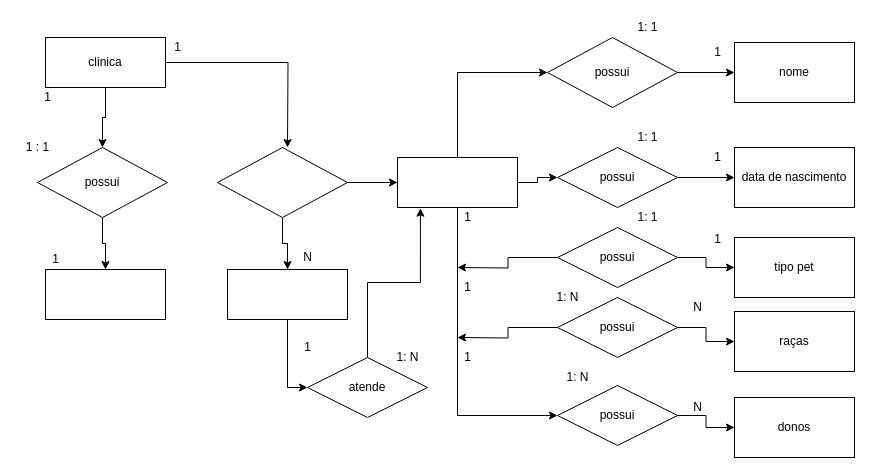
The diagram is 872 pixels wide and 475 high, and some of its shapes have lost their labels. Here are the shapes that lost their labels. From the top down, the centre of each, then its label:
At point (282, 182): "cadastra".
At point (457, 182): "pet".
At point (105, 294): "endereço".
At point (287, 294): "veterinário".
